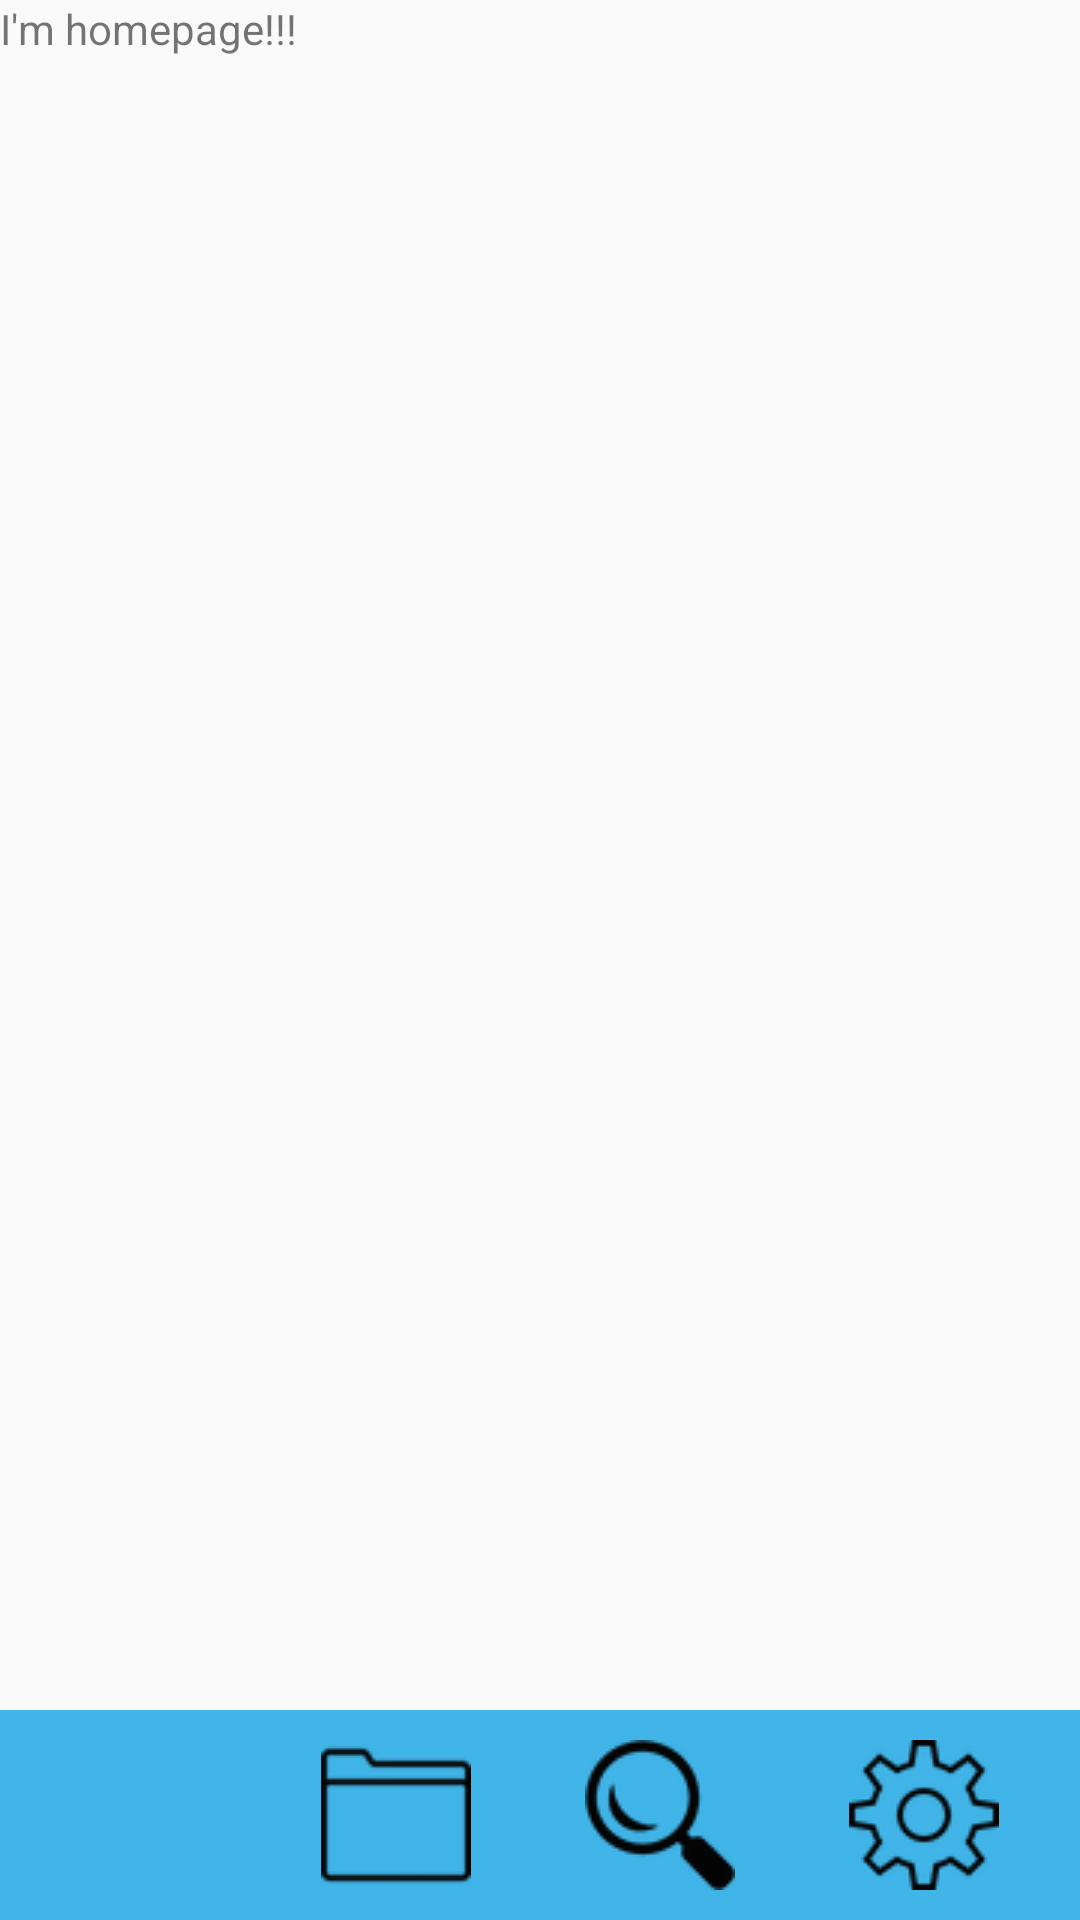

Screen size 1080px x 1920px. Icon name, then its center in pixels as point (x, y):
folder: point (396, 1815)
search: point (660, 1815)
setting: point (924, 1815)
